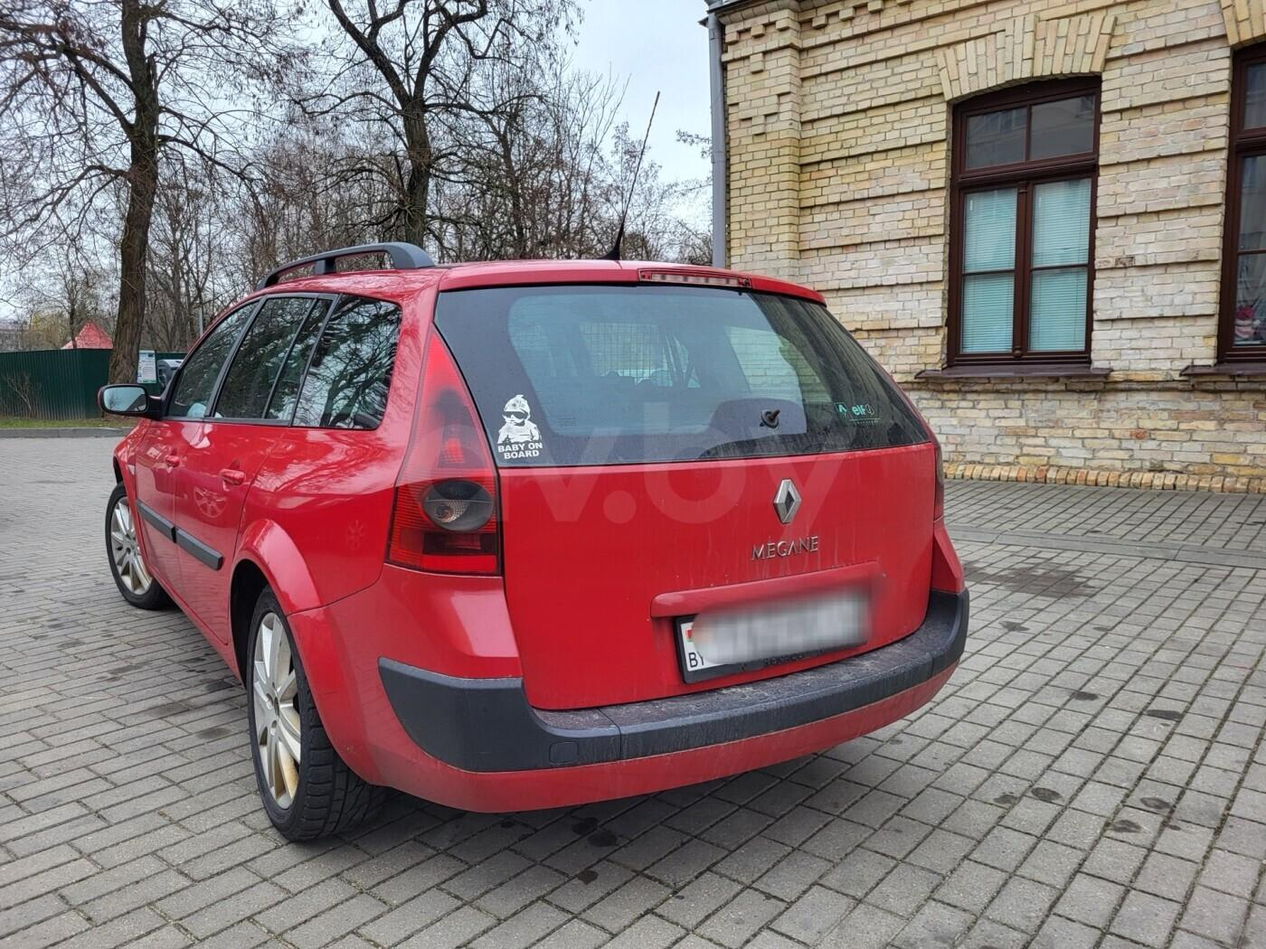Megane_2002-2006: (101, 256, 978, 838)
